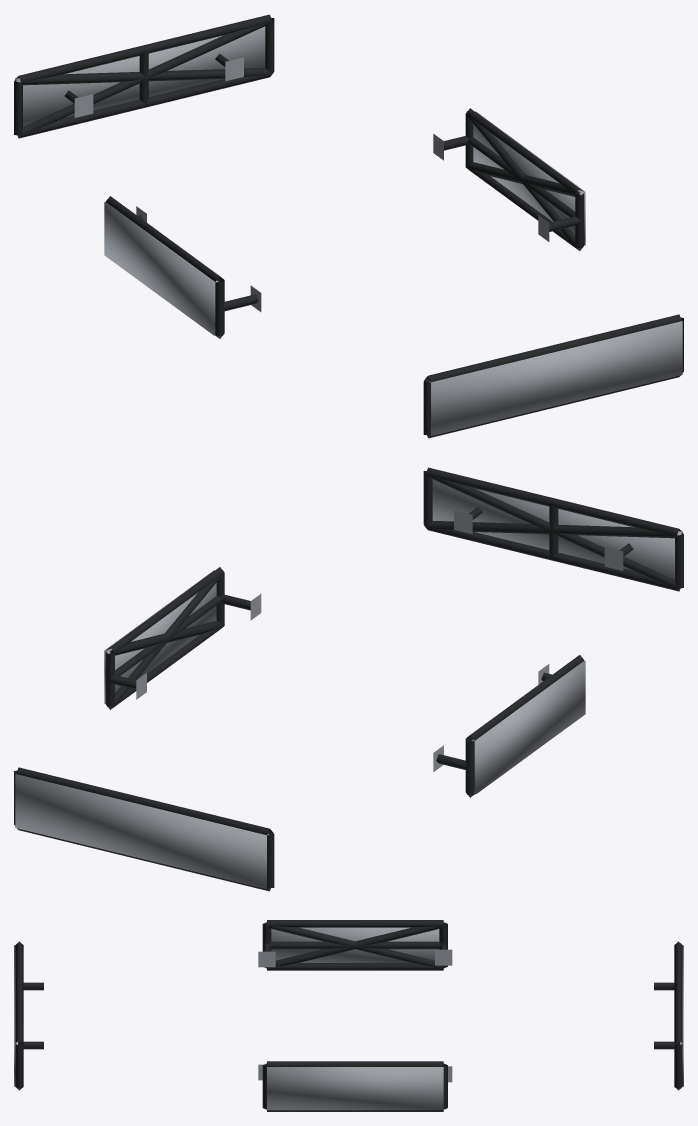
File: halberton_torrao_protecao.glb
3 renders of one model, top to bottom at view 1: azimuth 30°, elevation 25°; view 2: azimuth 150°, elevation 25°; view 3: azimuth 270°, elevation 25°, orthographic. The views are drawn at different scales.
Visible parts, largest first — view 1: Protection_front_Level3_Details, Protection_rear_Level1_Details, Protection_rear_Level3_Details, Protection_left_Level3_Details, Protection_rear_Level2_Details, Protection_right_Level1_Details, Protection_front_Level1_Details, Protection_right_Level2_Details, Protection_right_Level3_Details, Protection_left_Level1_Details; view 2: Protection_rear_Level3_Details, Protection_front_Level1_Details, Protection_front_Level3_Details, Protection_left_Level3_Details, Protection_front_Level2_Details, Protection_right_Level1_Details, Protection_rear_Level1_Details, Protection_right_Level2_Details, Protection_right_Level3_Details, Protection_left_Level1_Details; view 3: Protection_right_Level3_Details, Protection_left_Level1_Details, Protection_left_Level2_Details, Protection_left_Level3_Details, Protection_right_Level1_Details, Protection_rear_Level1_Details, Protection_front_Level1_Details.
Boxes of the visible parts, x1=… form: Protection_front_Level3_Details: x1=429, y1=321, x2=682, y2=435; Protection_rear_Level1_Details: x1=14, y1=14, x2=274, y2=138; Protection_rear_Level3_Details: x1=15, y1=26, x2=265, y2=126; Protection_left_Level3_Details: x1=104, y1=202, x2=218, y2=335; Protection_rear_Level2_Details: x1=16, y1=21, x2=271, y2=137; Protection_right_Level1_Details: x1=433, y1=108, x2=584, y2=250; Protection_front_Level1_Details: x1=423, y1=314, x2=683, y2=438; Protection_right_Level2_Details: x1=466, y1=115, x2=583, y2=250; Protection_right_Level3_Details: x1=473, y1=111, x2=585, y2=245; Protection_left_Level1_Details: x1=106, y1=196, x2=261, y2=338; Protection_rear_Level3_Details: x1=15, y1=774, x2=268, y2=888; Protection_front_Level1_Details: x1=423, y1=467, x2=683, y2=591; Protection_front_Level3_Details: x1=432, y1=479, x2=682, y2=579; Protection_left_Level3_Details: x1=471, y1=660, x2=585, y2=794; Protection_front_Level2_Details: x1=426, y1=474, x2=681, y2=590; Protection_right_Level1_Details: x1=105, y1=567, x2=261, y2=709; Protection_rear_Level1_Details: x1=14, y1=767, x2=274, y2=891; Protection_right_Level2_Details: x1=106, y1=573, x2=223, y2=708; Protection_right_Level3_Details: x1=104, y1=570, x2=216, y2=703; Protection_left_Level1_Details: x1=433, y1=655, x2=584, y2=797; Protection_right_Level3_Details: x1=267, y1=1067, x2=443, y2=1110; Protection_left_Level1_Details: x1=258, y1=920, x2=452, y2=970; Protection_left_Level2_Details: x1=266, y1=923, x2=443, y2=968; Protection_left_Level3_Details: x1=271, y1=927, x2=439, y2=962; Protection_right_Level1_Details: x1=258, y1=1061, x2=452, y2=1111; Protection_rear_Level1_Details: x1=654, y1=941, x2=682, y2=1090; Protection_front_Level1_Details: x1=15, y1=941, x2=43, y2=1090.
Size of the model in its own units: 2.19 by 0.354 by 4.25.
Materials: 1 (1 with a texture image).
